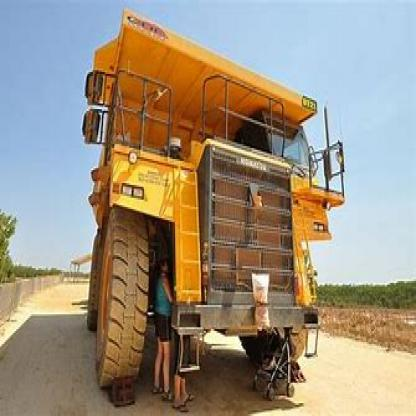dump_truck: (73, 15, 349, 397)
